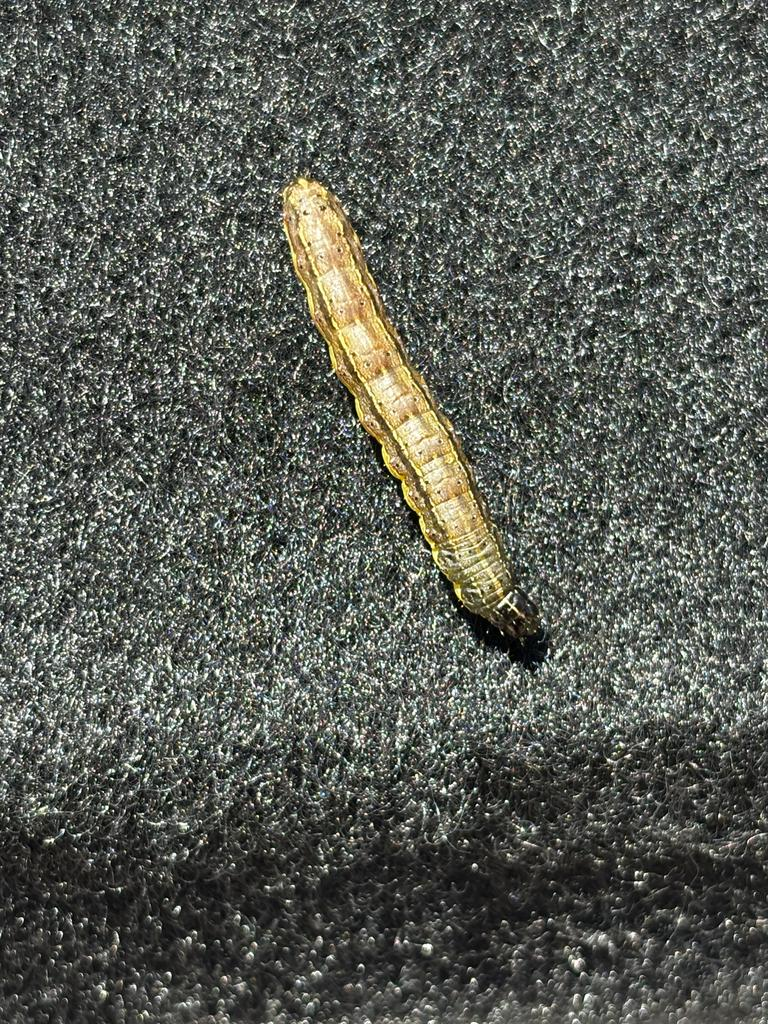caterpillars: (236, 143, 594, 681)
